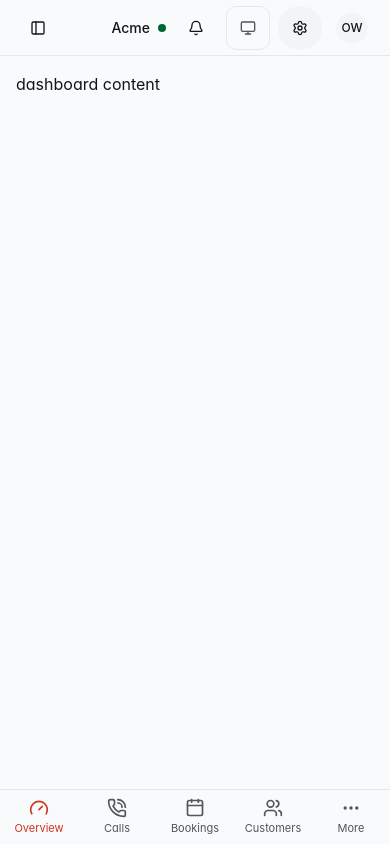
Test: TenantShellClient — navigation (QA-1) › 'More' opens the navigation drawer rather than linking to Support (F-13)
Click the button "More".
click(351, 817)  # box [312, 790, 389, 843]
(page scrolled)
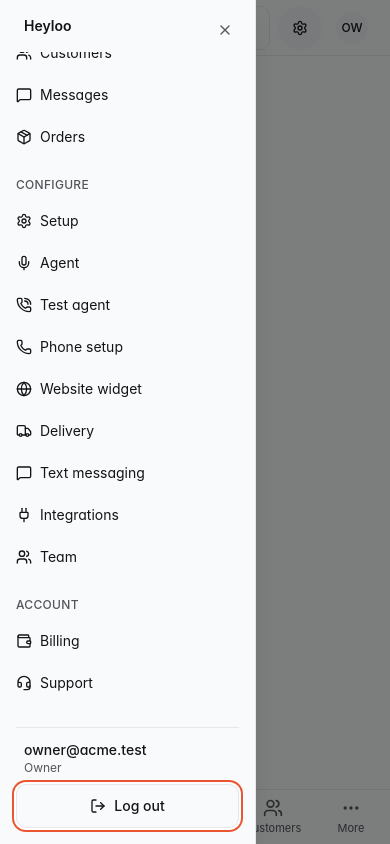
Check: the link "Messages" is shown, box [16, 86, 108, 103]
Check: the link "Orders" is shown, box [16, 128, 85, 145]
Check: the link "Setup" is shown, box [16, 212, 79, 229]
